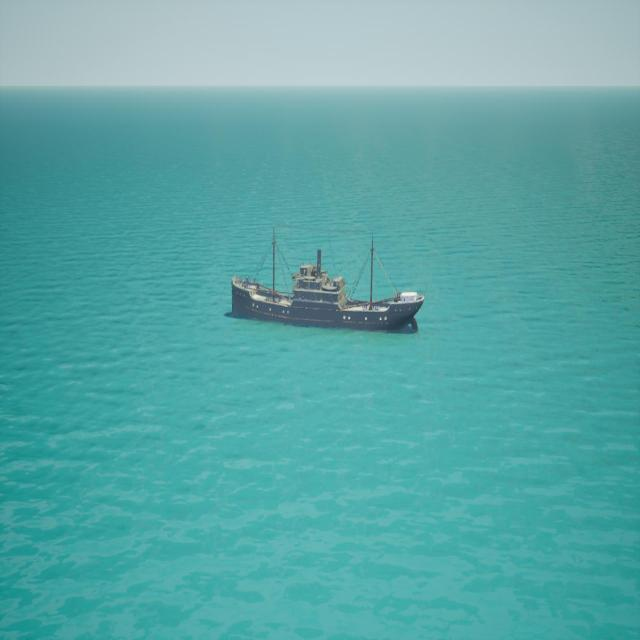fishing ship: (230, 233, 425, 334)
